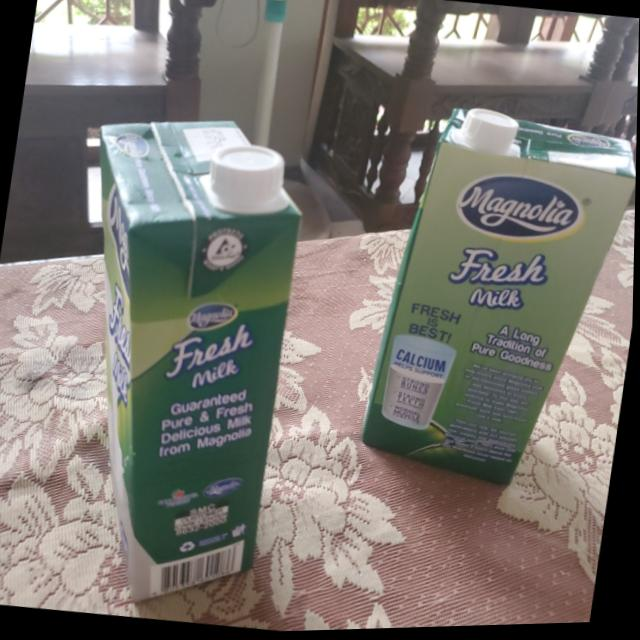milk: (25, 105, 313, 626), (353, 100, 638, 503)
